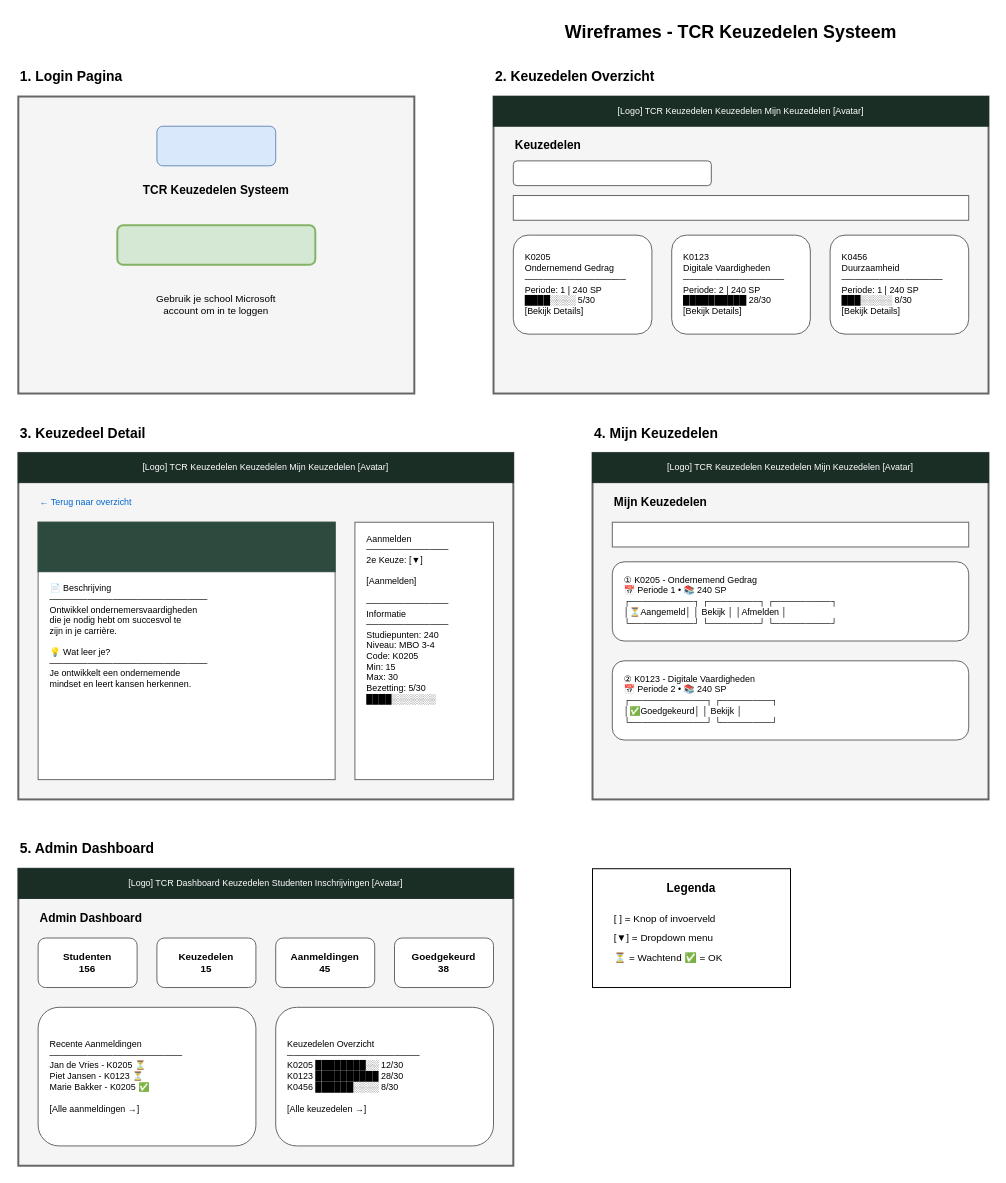
The diagram is 1006 pixels wide and 1183 high, and some of its shapes have lost their labels. The box of each missing label's shape, as (x1, y1, x2, y2) in pixels:
[TCR LOGO]: (156, 125, 276, 166)
Aangemeld: 1 Goedgekeurd: 1 Voltooid: 0: (611, 521, 969, 547)
K0205 Ondernemend Gedrag: (37, 521, 335, 572)
Periode: [▼] Status: [▼] [Toepassen]: (512, 195, 969, 220)
🔍 Zoek keuzedelen...: (512, 160, 711, 186)
🔐 Inloggen met Microsoft: (116, 224, 316, 265)
